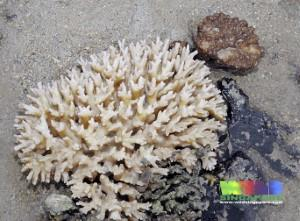bleached_corals: (14, 40, 227, 220)
